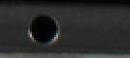holes: (28, 12, 60, 45)
